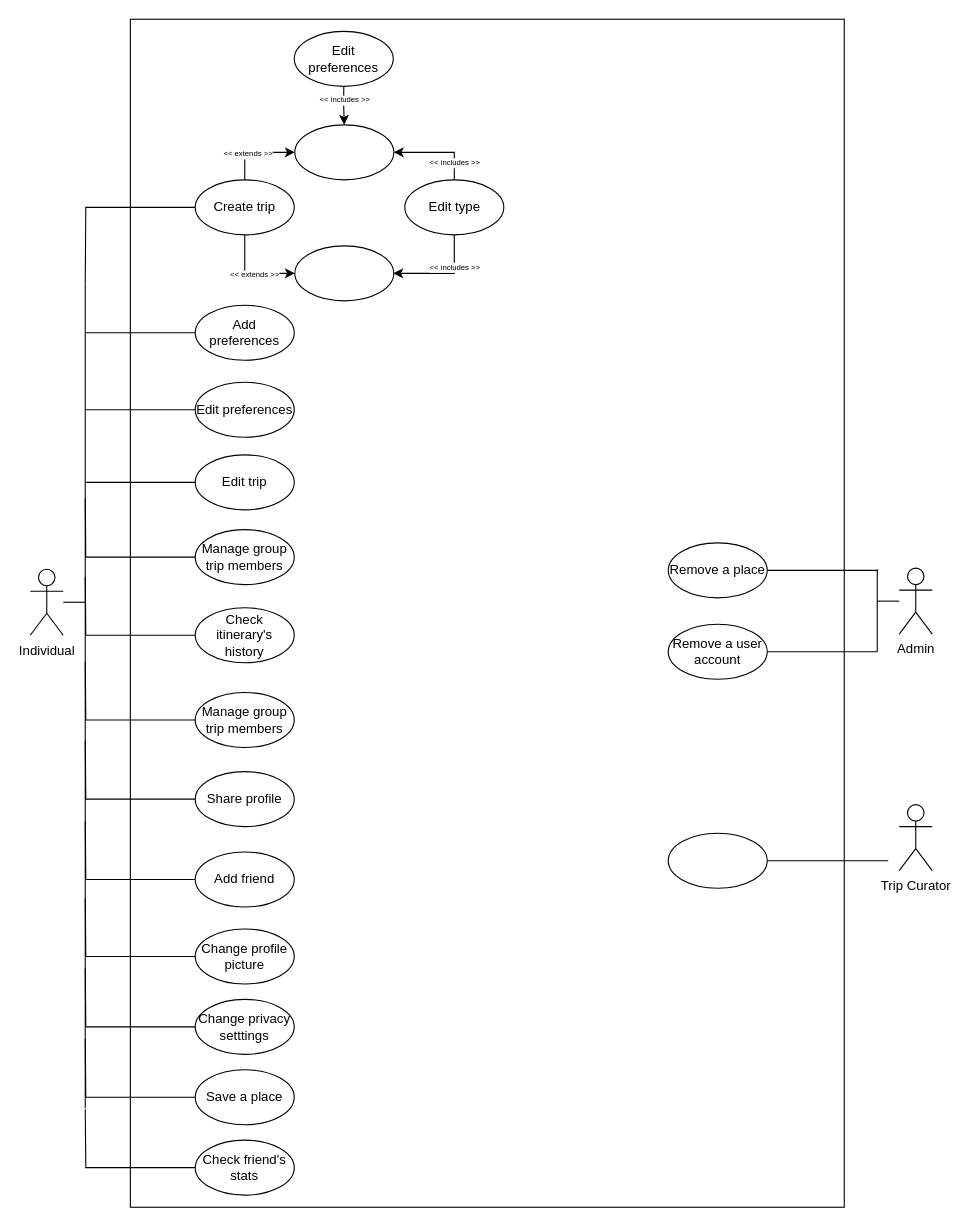
The diagram is 970 pixels wide and 1227 high, and some of its shapes have lost their labels. Each missing label, with the centre of its shape:
"Create curated itinerary" goes at (717,860).
"Create group trip" goes at (344,152).
"Create individual trip" goes at (344,273).
